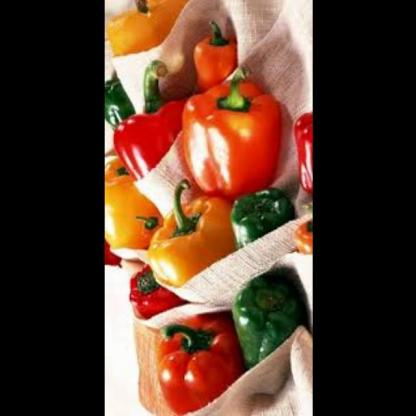bell pepper: (179, 73, 286, 203), (142, 188, 233, 291), (150, 314, 240, 415), (110, 79, 187, 184), (225, 272, 303, 371), (104, 159, 166, 258), (224, 185, 294, 258), (103, 0, 186, 57), (184, 16, 244, 92), (123, 264, 177, 326), (286, 104, 312, 196), (104, 74, 134, 133), (290, 213, 312, 254)
